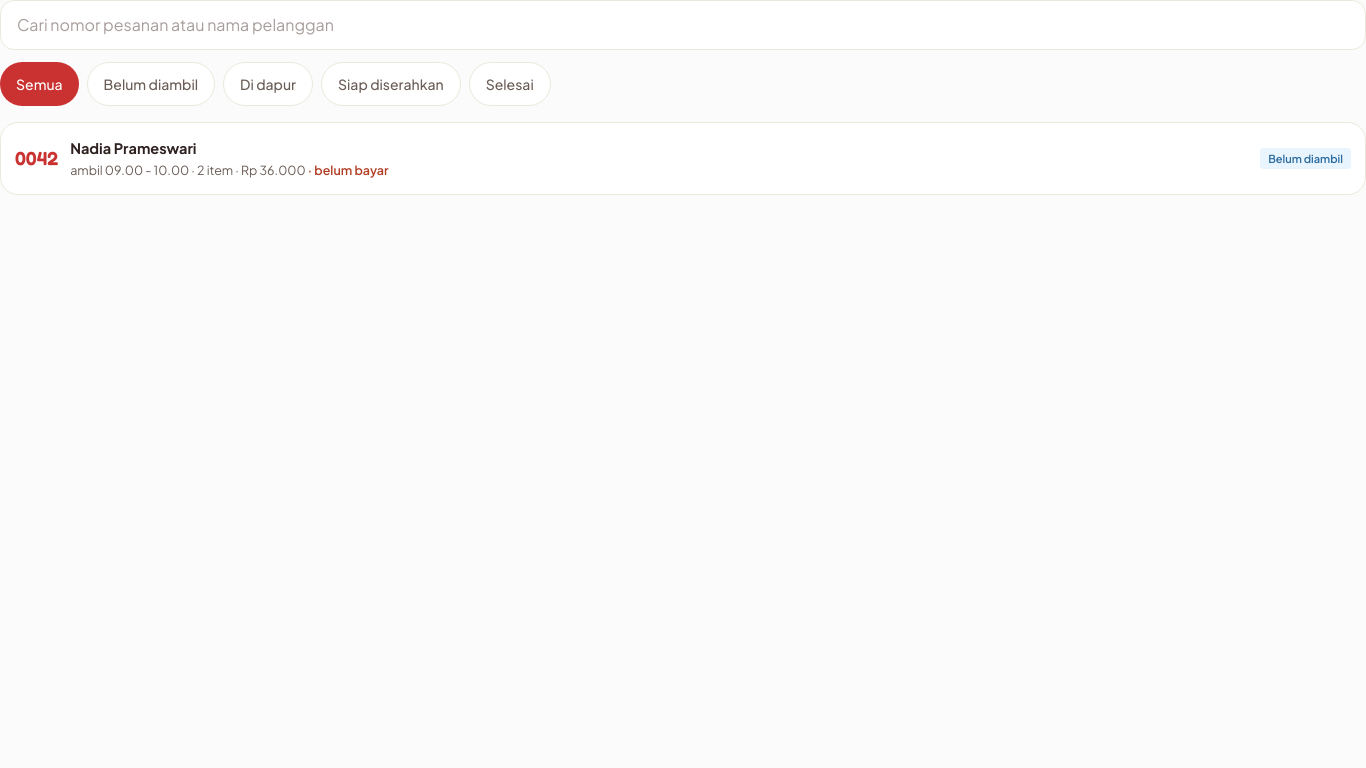
Test: PreorderScreen: photobooth charges (BPB-098) › shows them as already paid at the booth, apart from the food the cashier collects
The width and height of the screenshot is (1366, 768).
What coordinates should you click on to do the following:
click the text "Nadia Prameswari"
I would click on:
 (133, 148)
Its box is [70, 139, 196, 157].
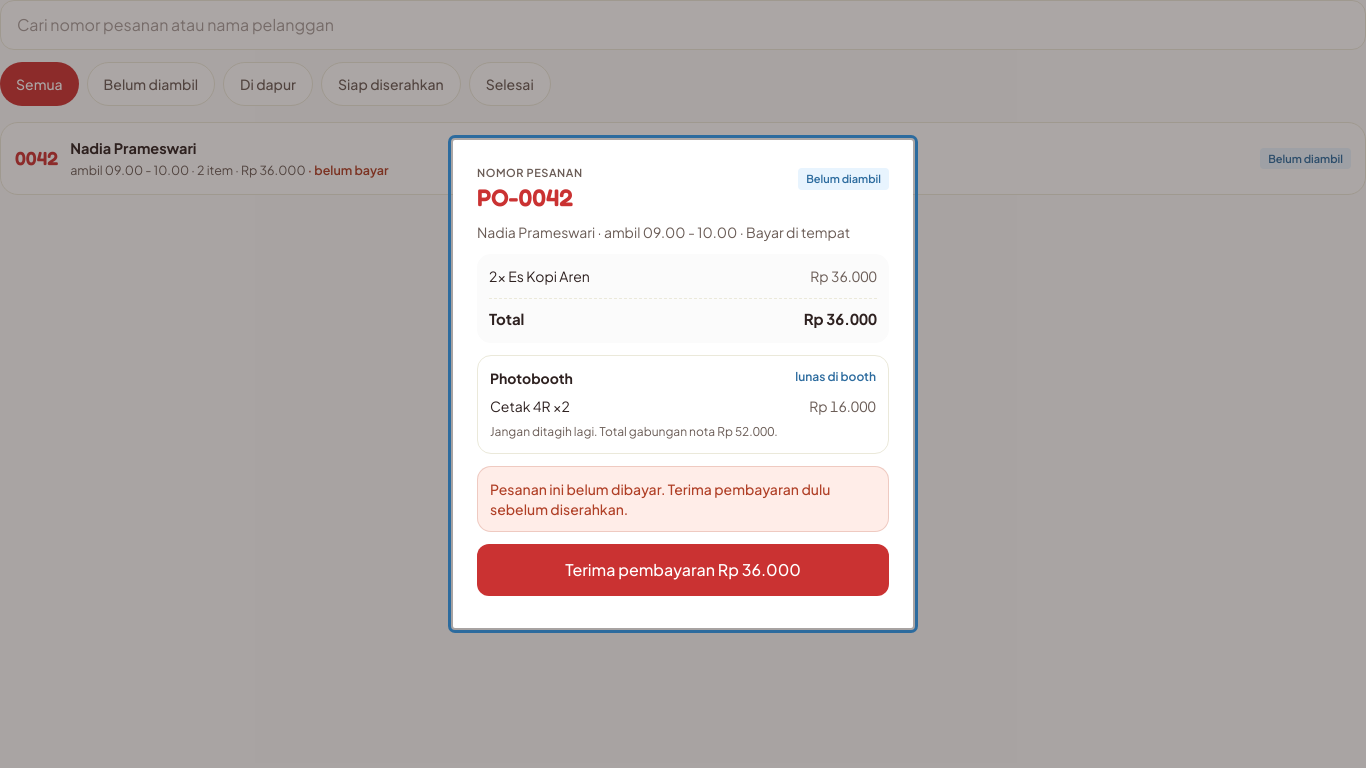
Now the text "lunas di booth" is shown, box [795, 368, 876, 388]
Now the text "Cetak 4R ×2" is shown, box [490, 396, 570, 416]
Now the text "Jangan ditagih lagi. Total gabungan nota Rp 52.000." is shown, box [490, 424, 778, 439]
